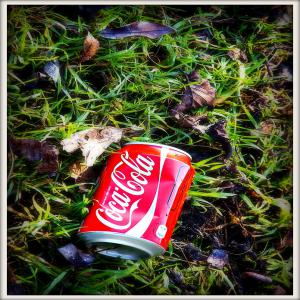Can: (73, 142, 198, 265)
